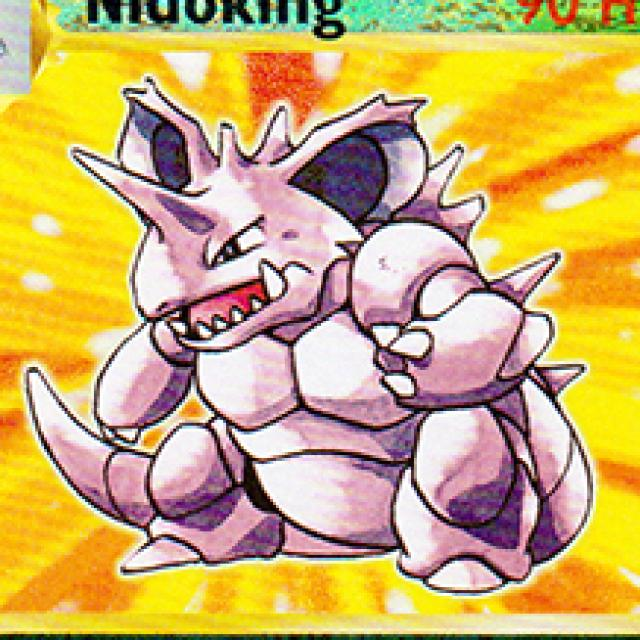Nidoking: (79, 128, 576, 578)
